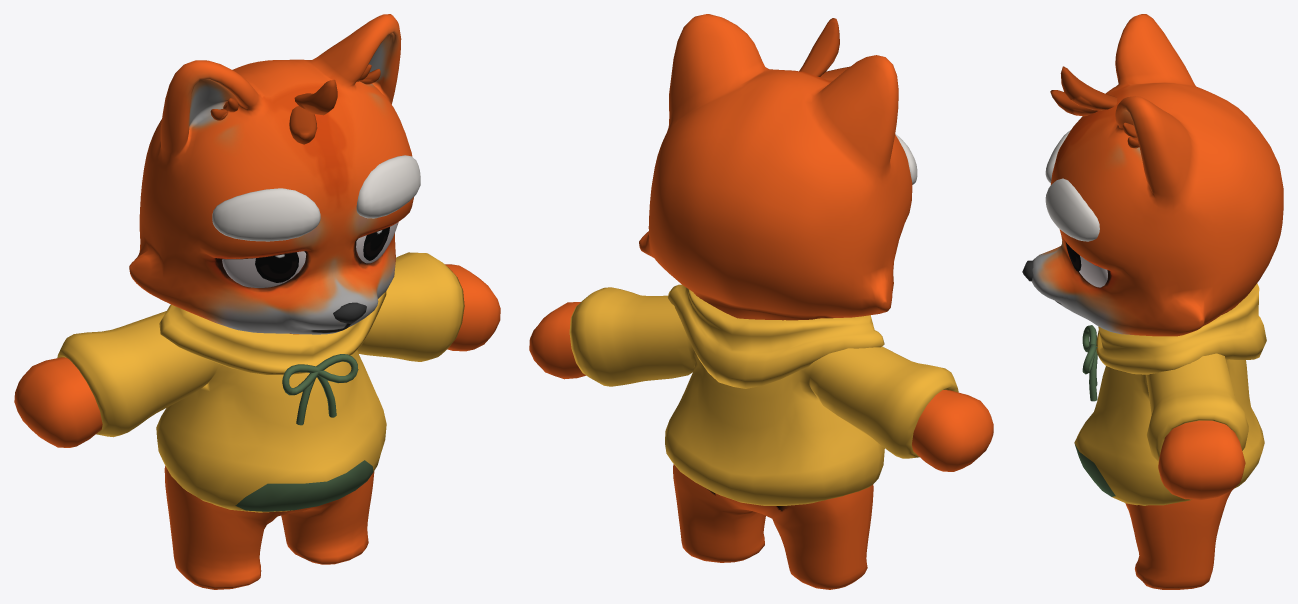
Rendered from dog.glb.
3 views of the same model, side by side, from view 1: azimuth 30°, elevation 25°; view 2: azimuth 150°, elevation 25°; view 3: azimuth 270°, elevation 25° (orthographic). The views are drawn at different scales.
Parts seen in each view (by area): view 1: face, 立方体.001, 立方体, 円柱, brow, NURBSパス, 球.003, 球.005, 平面.001, 平面.002; view 2: face, 立方体.001, 立方体, 円柱, 平面.001; view 3: face, 立方体.001, 立方体, 円柱, brow, 平面.001, NURBSパス, 球, 平面.002.
Boxes of the visible parts, bbox=[...] form: face: bbox=[129, 14, 413, 334]; 立方体.001: bbox=[57, 252, 464, 512]; 立方体: bbox=[14, 264, 500, 589]; 円柱: bbox=[159, 291, 386, 374]; brow: bbox=[212, 155, 420, 241]; NURBSパス: bbox=[282, 354, 358, 425]; 球.003: bbox=[222, 251, 306, 287]; 球.005: bbox=[255, 252, 298, 282]; 平面.001: bbox=[294, 79, 337, 115]; 平面.002: bbox=[289, 106, 317, 144]; face: bbox=[639, 14, 912, 320]; 立方体.001: bbox=[569, 287, 958, 505]; 立方体: bbox=[529, 302, 993, 589]; 円柱: bbox=[668, 284, 884, 388]; 平面.001: bbox=[799, 18, 839, 76]; face: bbox=[1031, 14, 1283, 336]; 立方体.001: bbox=[1074, 353, 1264, 505]; 立方体: bbox=[1125, 420, 1245, 589]; 円柱: bbox=[1096, 283, 1266, 374]; brow: bbox=[1045, 130, 1099, 241]; 平面.001: bbox=[1060, 66, 1117, 110]; NURBSパス: bbox=[1082, 325, 1097, 401]; 球: bbox=[1079, 256, 1107, 287]; 平面.002: bbox=[1050, 90, 1098, 116].
Bounding box in the file's own units: 1.28 × 1.43 × 0.6768.
Materials: 7 (2 with a texture image).
